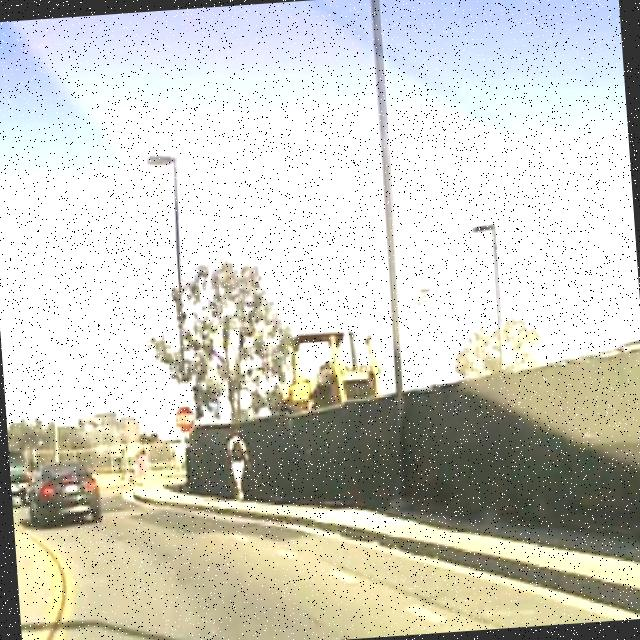Stop: (174, 404, 196, 433)
